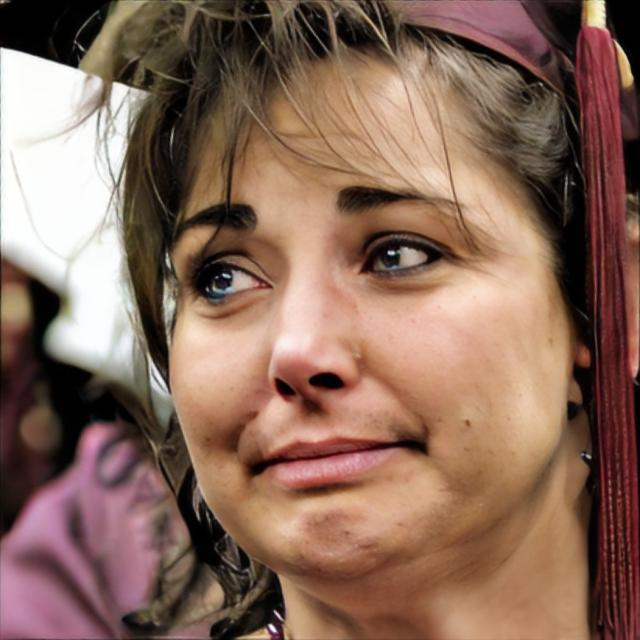sad: (166, 38, 564, 572)
